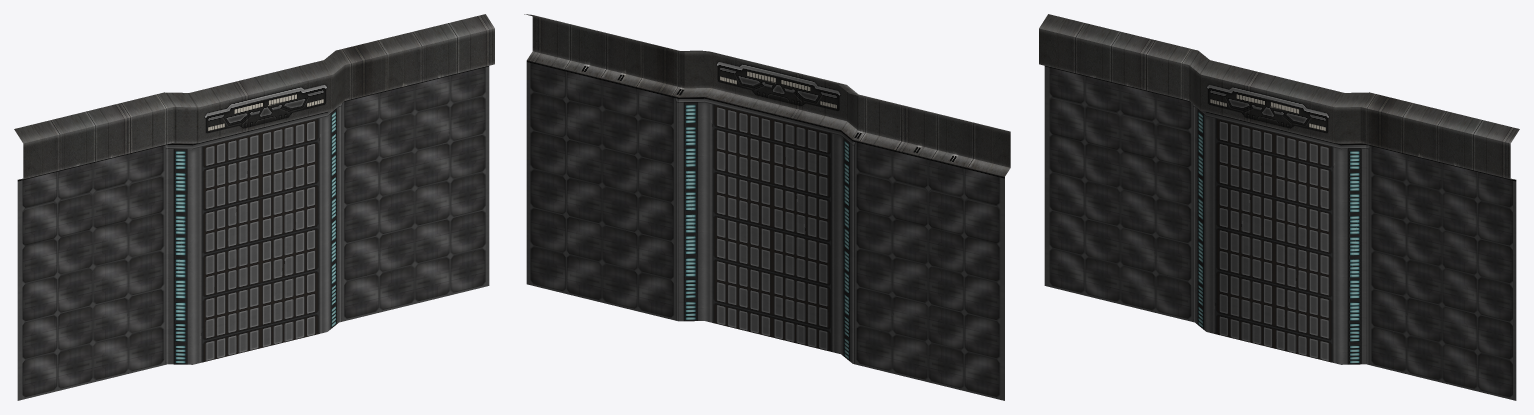
The model's file is doodad_skyscraperpart_wall.fbx.
3 renders of one model, left to right at view 1: azimuth 30°, elevation 25°; view 2: azimuth 150°, elevation 25°; view 3: azimuth 330°, elevation 25°, orthographic.
Parts seen in each view (by area): view 1: pCube1; view 2: pCube1; view 3: pCube1.
Part boxes in pixels (x1,y1,x2,y2): pCube1: (14, 14, 494, 400); pCube1: (524, 14, 1010, 400); pCube1: (1039, 14, 1519, 400).
Bounding box in the file's own units: 11 × 6 × 0.6491.
1 material, 1 textured.
